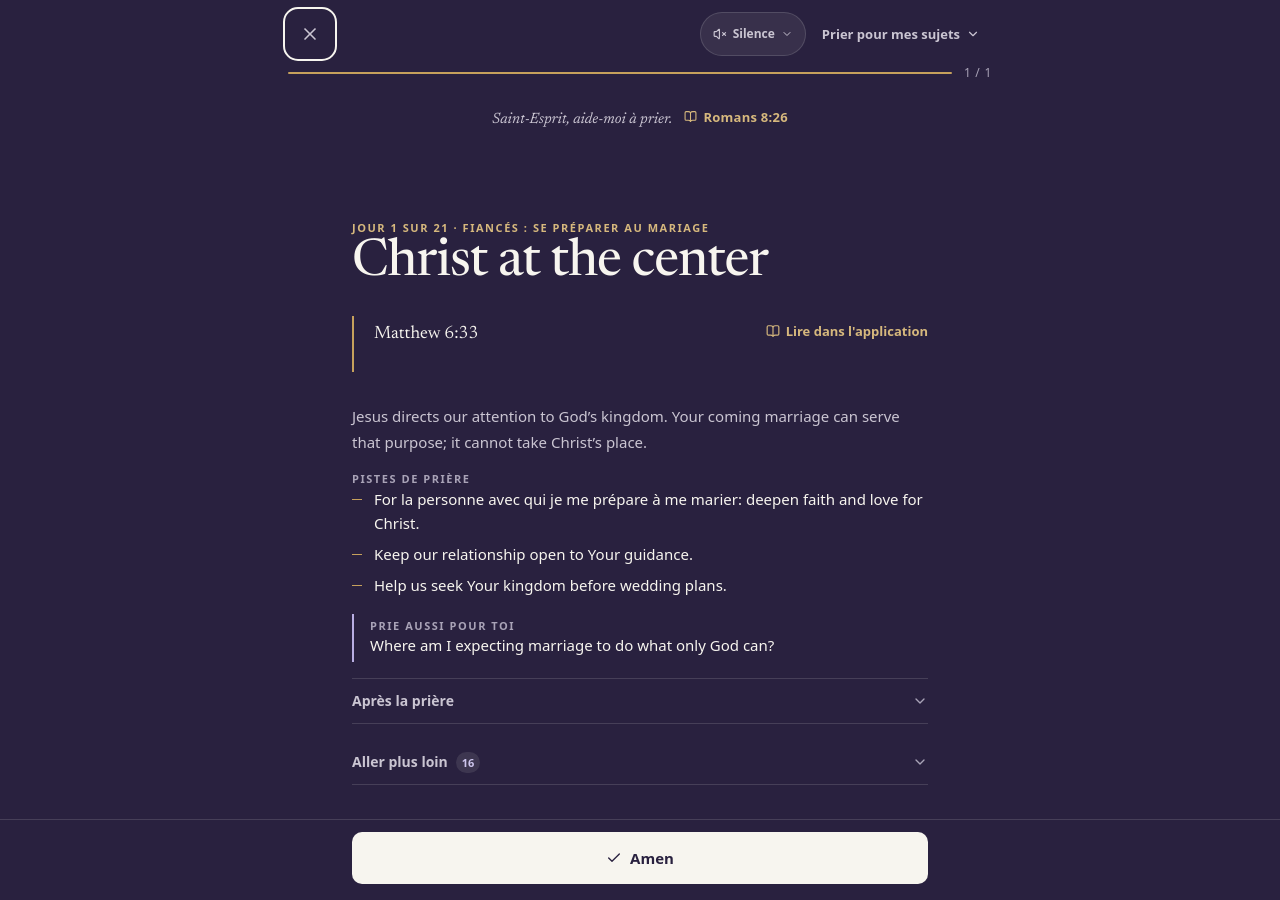
it: PrayerSession — guided plan day content › walks covenant21 through the same PrayerSession and Scripture reader
The width and height of the screenshot is (1280, 900).
Expected: the heading "Christ at the center" is shown, [352,237,768,289]
Click the button "Matthew 6:33 Lire dans l'application" at coordinates (426, 334), box [352,316,928,372]
(page scrolled)
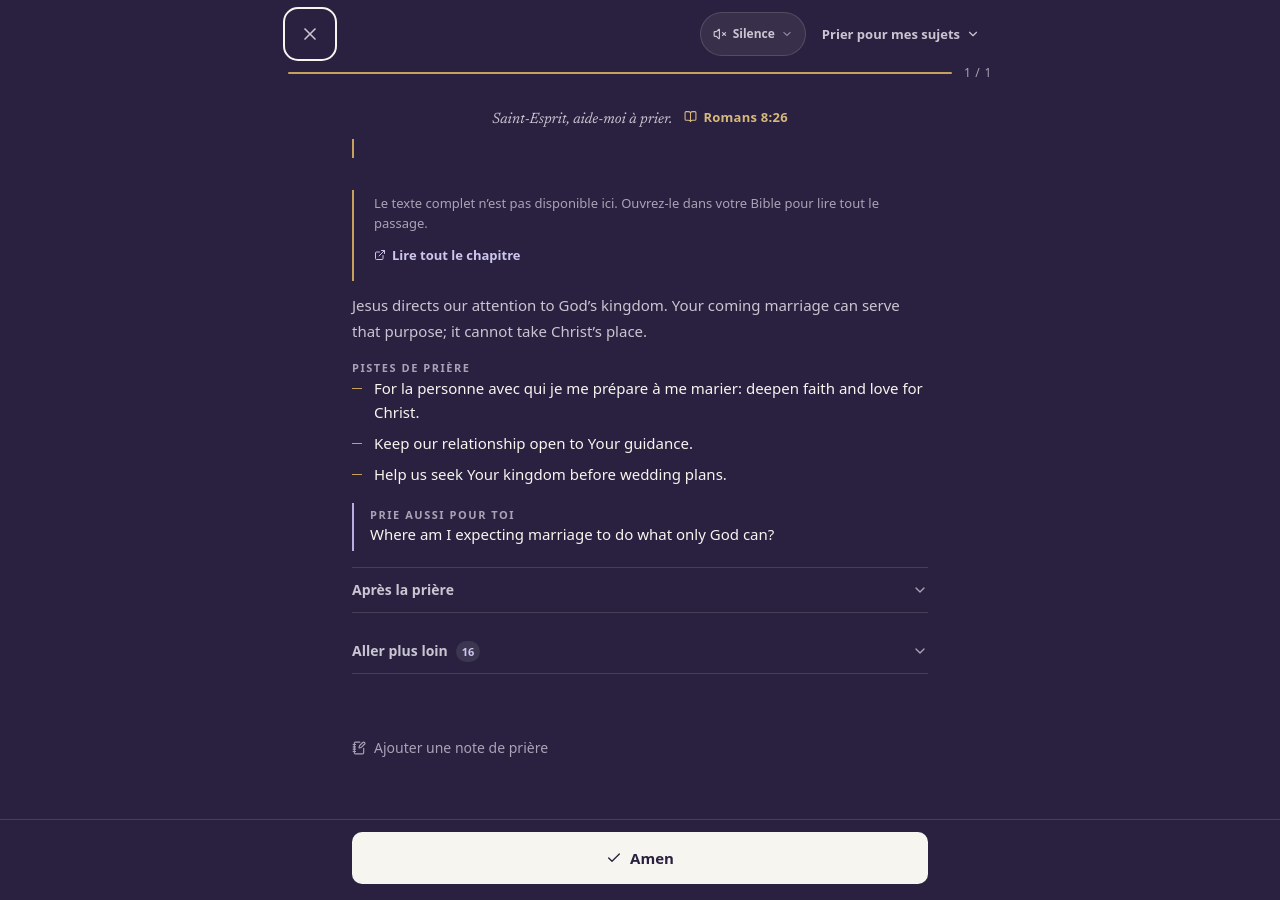
Expected: the button "Amen" is shown, [352,832,928,884]
Now the button "Ajouter une note de prière" is shown, box [352,726,548,770]
